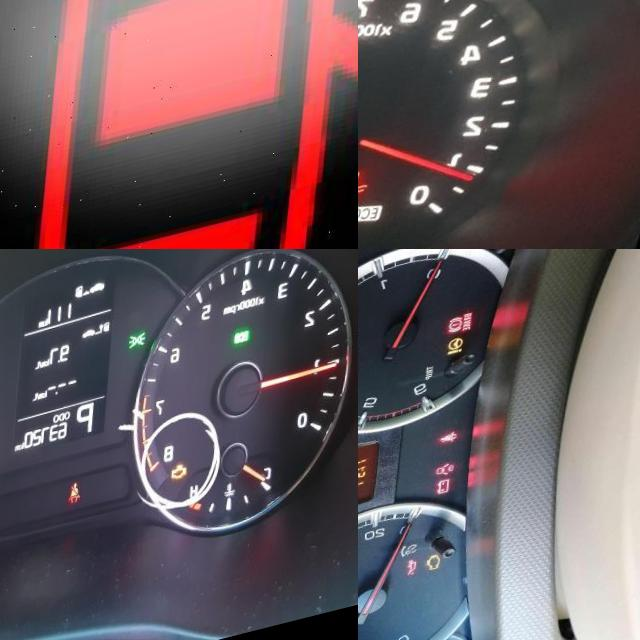Engine cooling system: (358, 180, 380, 214)
SideLamp: (135, 348, 154, 367)
